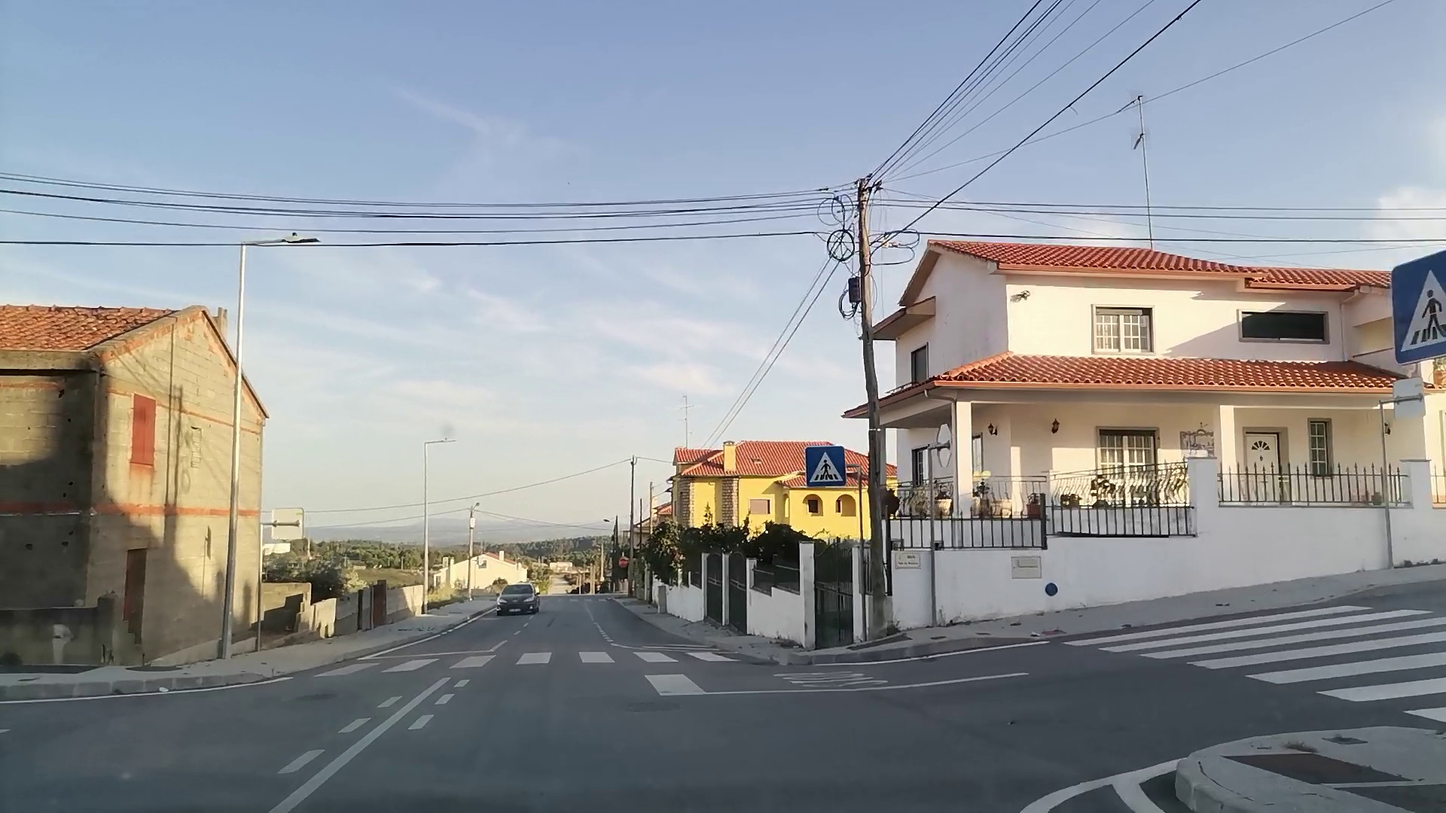Stairs: (1078, 602, 1446, 742), (317, 642, 751, 677)
